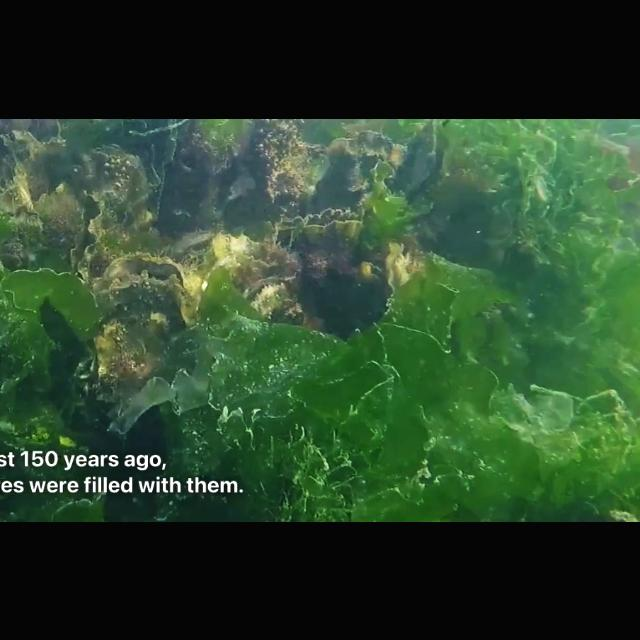Oyster-Closed: (314, 132, 410, 218), (71, 141, 153, 241), (244, 118, 312, 216)
Oyster-Open: (91, 252, 190, 382), (191, 231, 301, 303), (15, 135, 81, 237), (69, 186, 133, 282), (392, 118, 452, 200), (273, 206, 365, 254), (242, 275, 308, 327), (0, 188, 42, 232), (383, 241, 413, 295), (352, 258, 386, 286)
